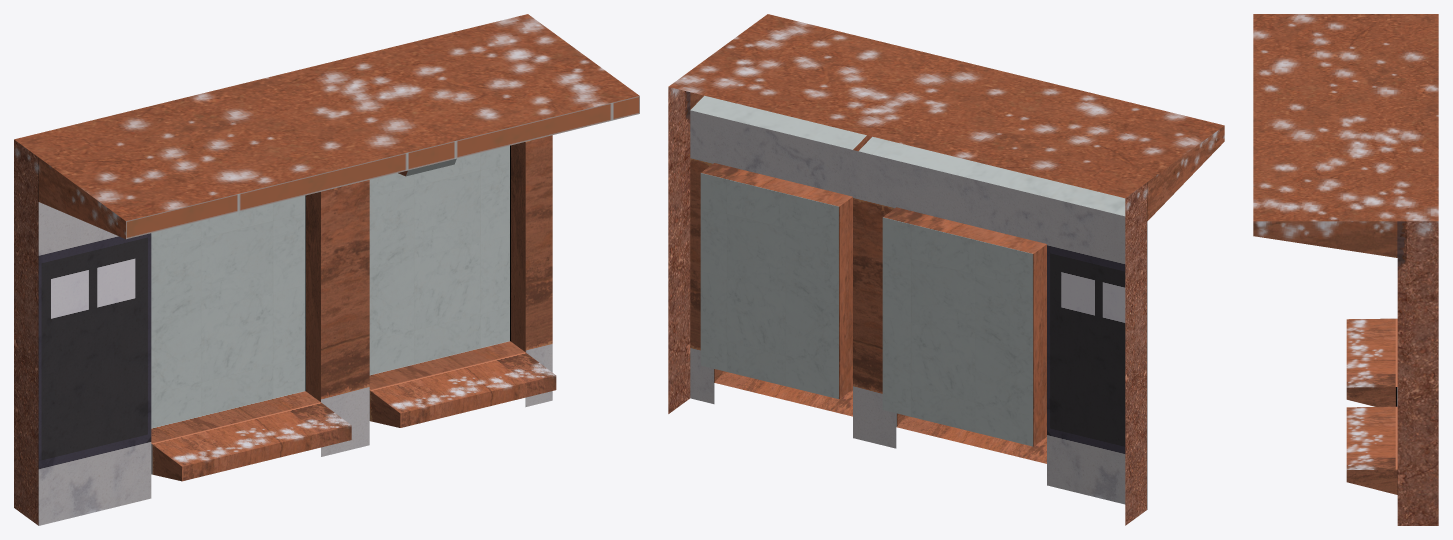
File: 버스정류장.FBX
3 views of the same model, side by side, from view 1: azimuth 30°, elevation 25°; view 2: azimuth 150°, elevation 25°; view 3: azimuth 270°, elevation 25° (orthographic). The views are drawn at different scales.
Parts seen in each view (by area): view 1: Box001; view 2: Box001; view 3: Box001.
Boxes of the visible parts, box(x1,y1,x2,y2) form: Box001: box(14, 14, 639, 525); Box001: box(668, 14, 1224, 525); Box001: box(1253, 14, 1438, 525).
Bounding box in the file's own units: 71.98 × 49.32 × 27.15.
1 material, 1 textured.
